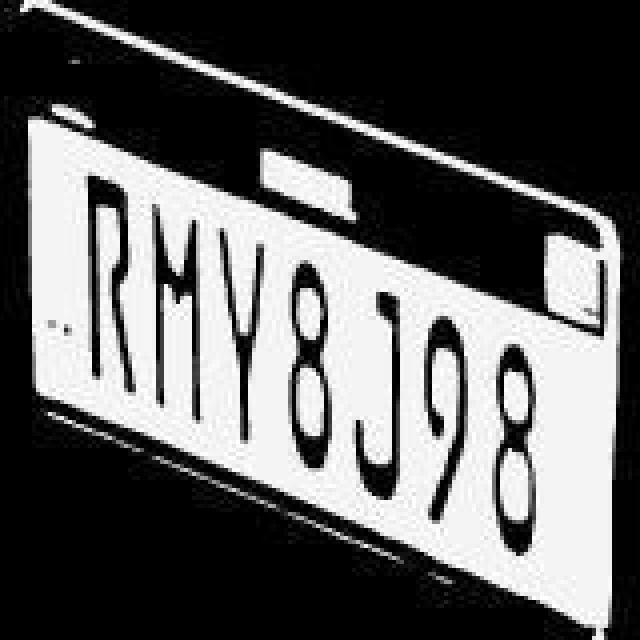8: (290, 254, 342, 474), (492, 340, 540, 556)
9: (422, 312, 474, 528)
J: (354, 290, 414, 502)
M: (144, 200, 208, 424)
R: (82, 174, 142, 402)
Y: (216, 224, 272, 448)
